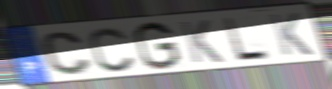C: (40, 30, 94, 77), (88, 25, 138, 74)
G: (131, 20, 182, 71)
K: (177, 18, 226, 65), (267, 11, 316, 57)
L: (221, 16, 273, 62)
